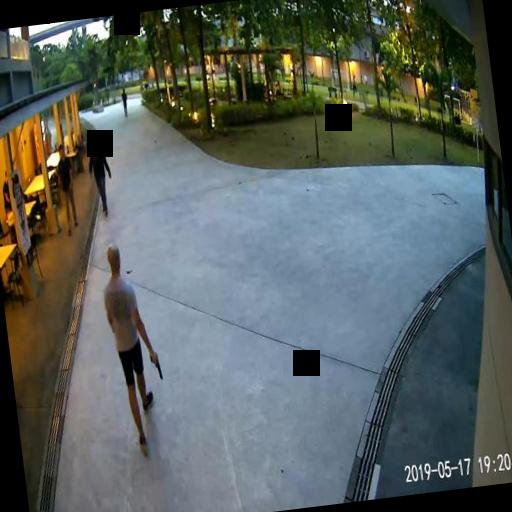Handgun: (148, 350, 162, 380)
